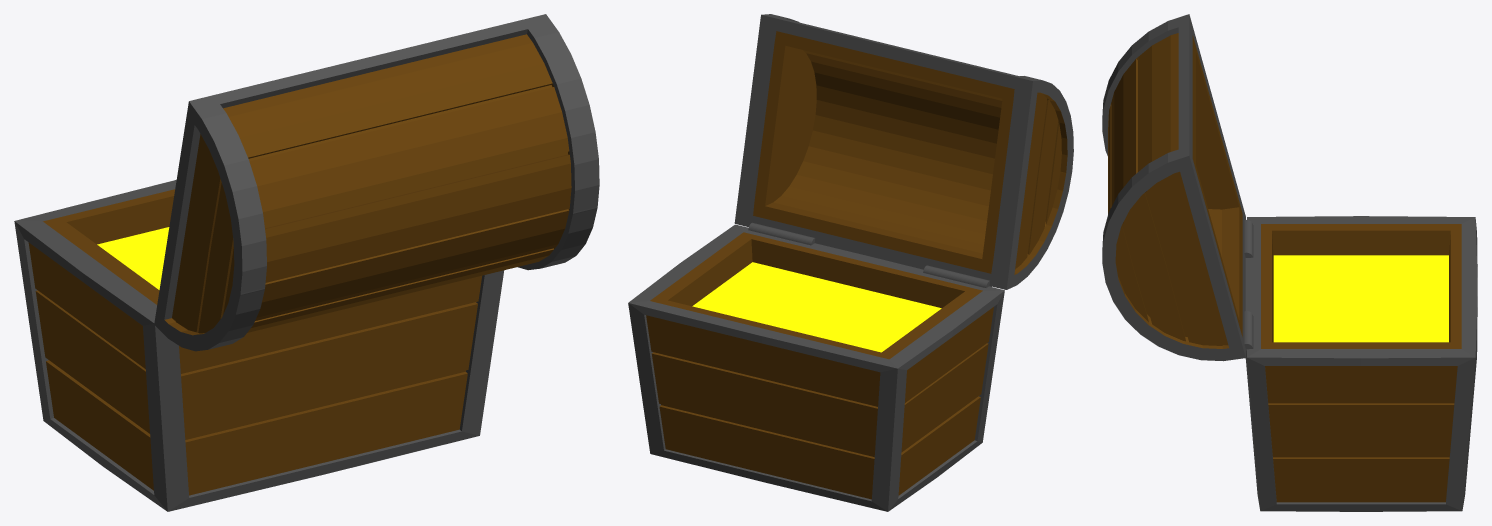
File: CoffreFinal.fbx
3 renders of one model, left to right at view 1: azimuth 30°, elevation 25°; view 2: azimuth 150°, elevation 25°; view 3: azimuth 270°, elevation 25°, orthographic. The views are drawn at different scales.
Parts seen in each view (by area): view 1: Plan; view 2: Plan; view 3: Plan.
Part boxes in pixels (box(x1,y1,x2,y2)): Plan: box(14, 14, 599, 511); Plan: box(628, 14, 1073, 511); Plan: box(1102, 14, 1477, 511).
Bounding box in the file's own units: 238 × 284 × 265.
